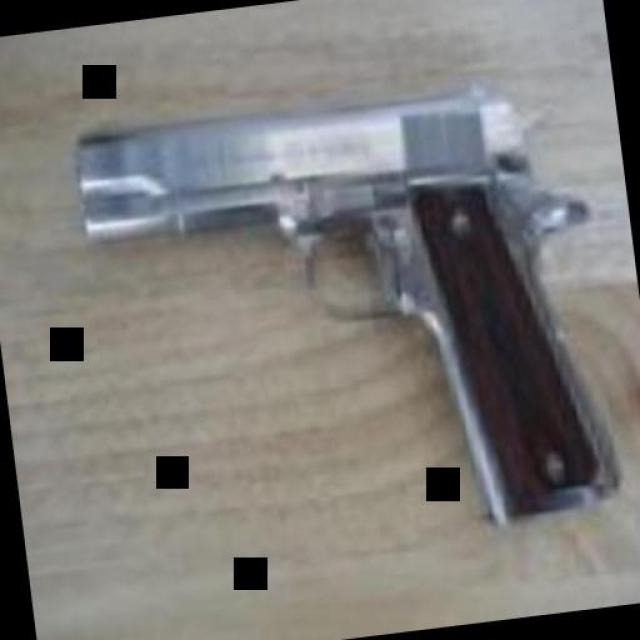gun: (65, 68, 630, 564)
